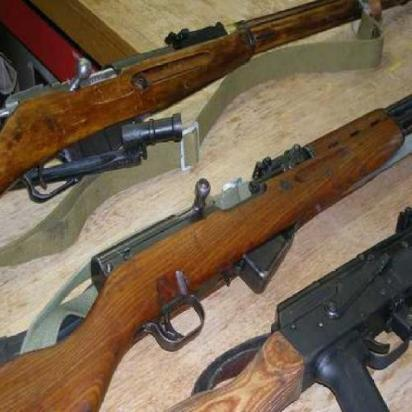Gun: (104, 72, 399, 354)
